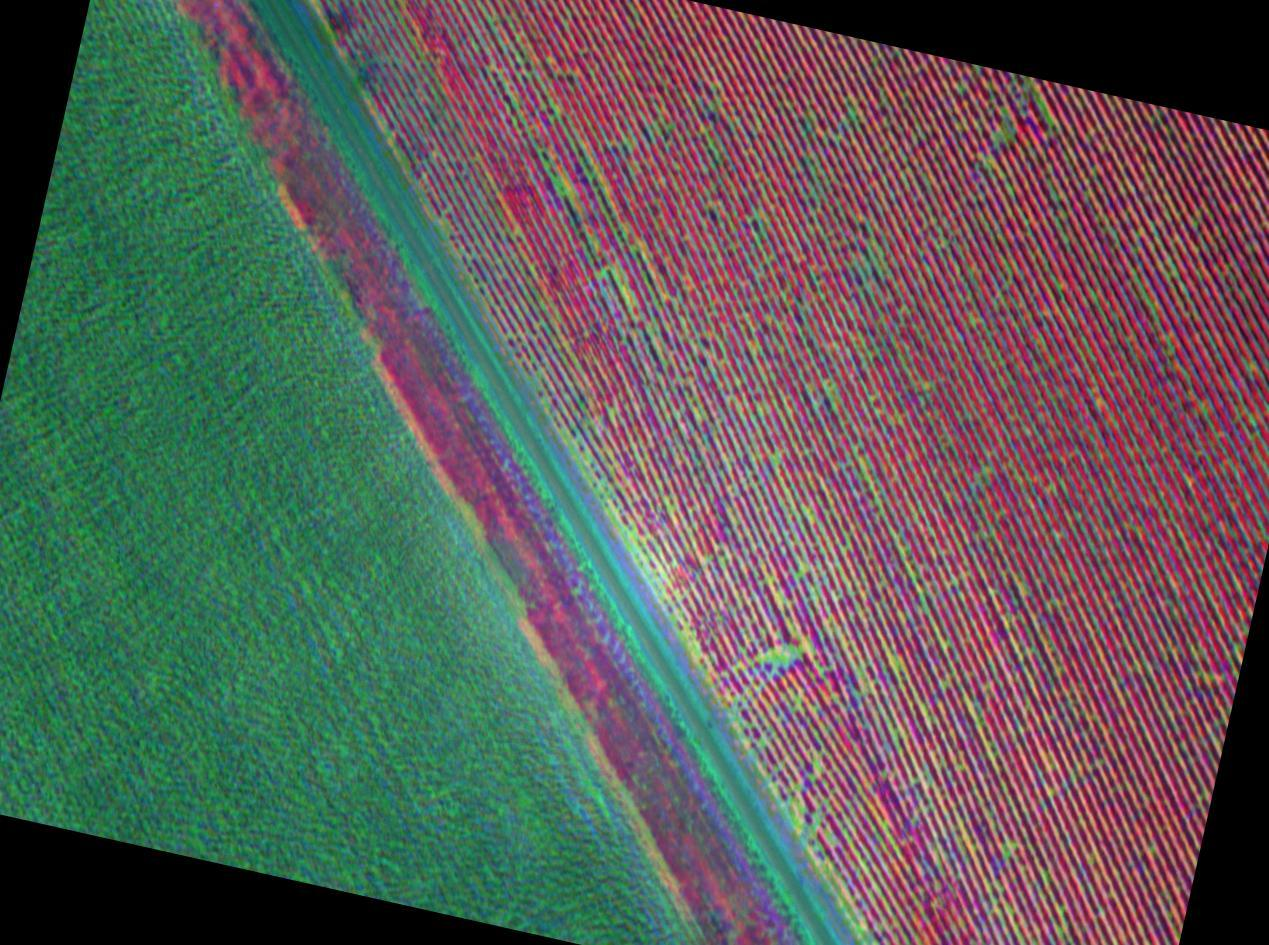dc: (768, 653, 775, 660), (789, 649, 795, 656), (609, 410, 614, 415), (1002, 133, 1006, 139), (771, 457, 777, 461), (891, 660, 895, 665), (1010, 844, 1014, 849)
